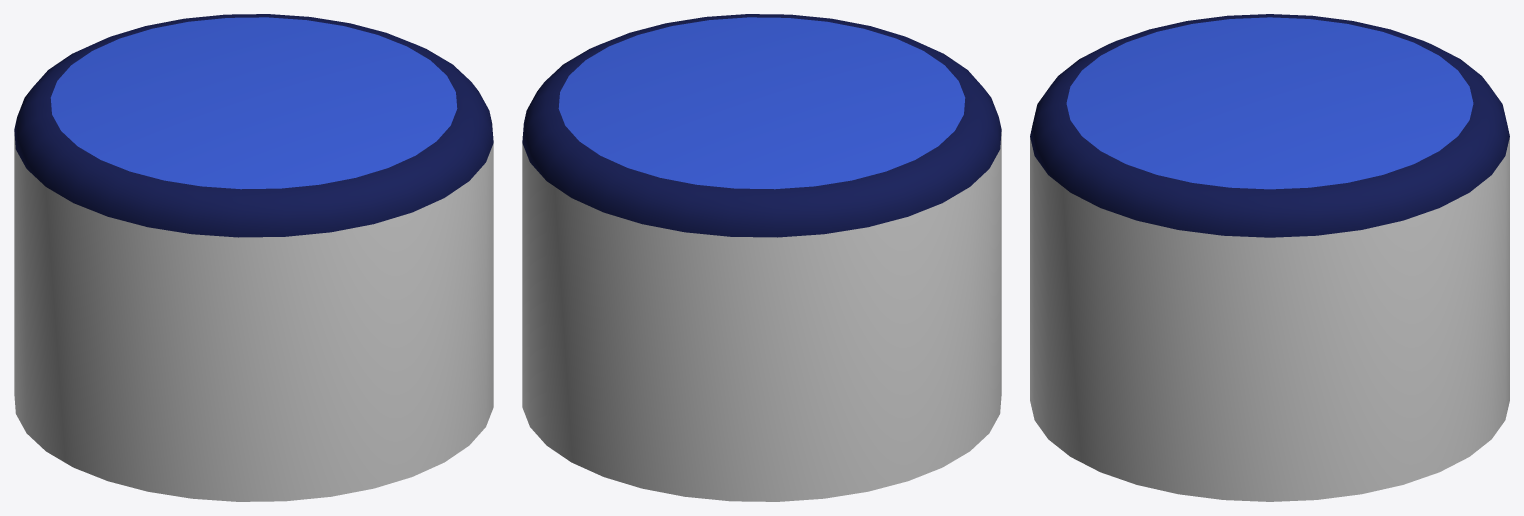
File: CylinderForTile_05.fbx
3 renders of one model, left to right at view 1: azimuth 30°, elevation 25°; view 2: azimuth 150°, elevation 25°; view 3: azimuth 270°, elevation 25°, orthographic.
Visible parts, largest first — view 1: Cylinder; view 2: Cylinder; view 3: Cylinder.
Part boxes in pixels (box(x1,y1,x2,y2)): Cylinder: box(14, 14, 493, 501); Cylinder: box(522, 14, 1001, 501); Cylinder: box(1030, 14, 1509, 501).
Size of the model in its own units: 200 by 137 by 200.
